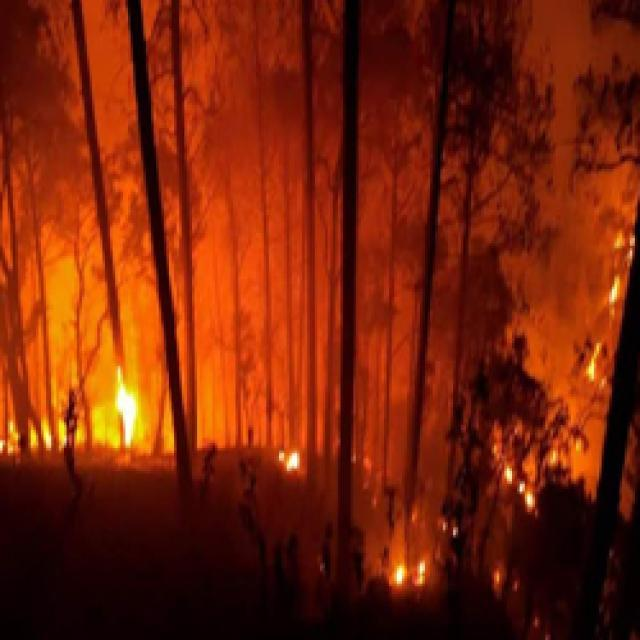Fire: (565, 111, 640, 502), (0, 343, 174, 488), (470, 401, 560, 558), (372, 526, 460, 603), (256, 400, 321, 484)
Smoke: (0, 0, 397, 376), (281, 0, 562, 330)
